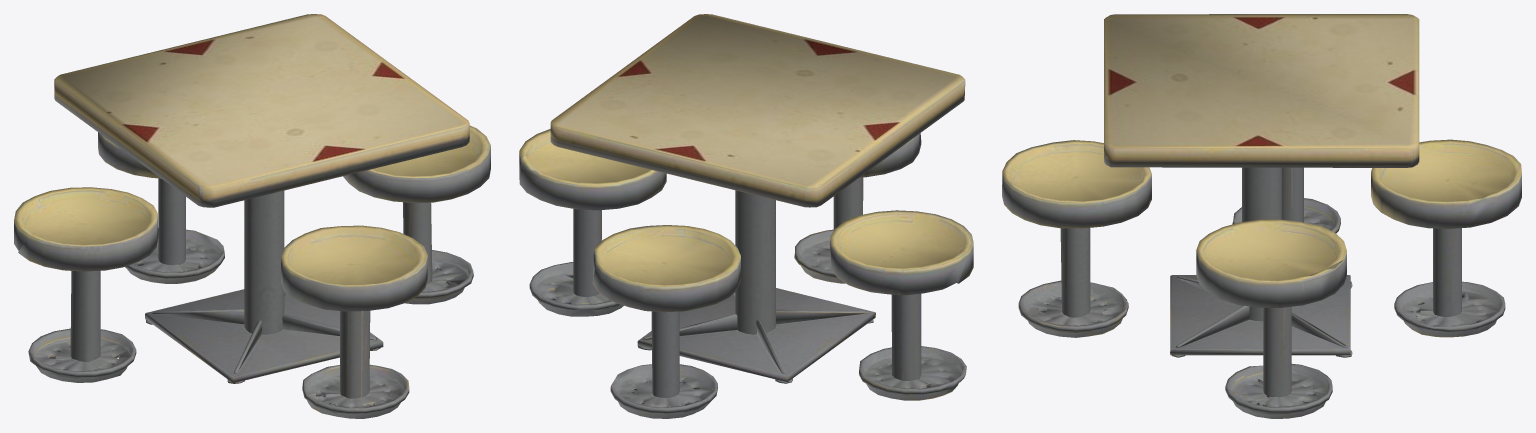
Rendered from mall-food-court-table-set.glb.
The picture shows the model from 3 angles, left to right: view 1: azimuth 30°, elevation 25°; view 2: azimuth 150°, elevation 25°; view 3: azimuth 270°, elevation 25°; orthographic projection.
Visible parts, largest first — view 1: food-court-table-set; view 2: food-court-table-set; view 3: food-court-table-set.
Part boxes in pixels (x1,y1,x2,y2): food-court-table-set: [14, 14, 490, 418]; food-court-table-set: [519, 14, 973, 418]; food-court-table-set: [1002, 14, 1521, 418].
Bounding box in the file's own units: 1.5 × 0.75 × 1.48.
1 material, 1 textured.
